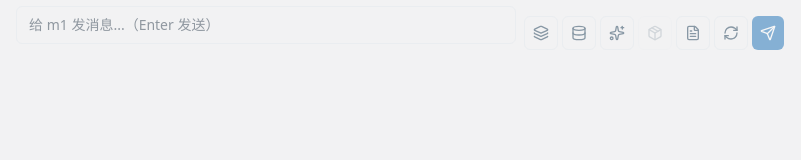
对话子模式：技能过滤 › 工作模式技能选择器仍列出全部技能
This screenshot has width=801, height=160.
Click the button titled "技能 - 选择技能注入系统提示词": (617,33) left=600, top=16, right=634, bottom=50
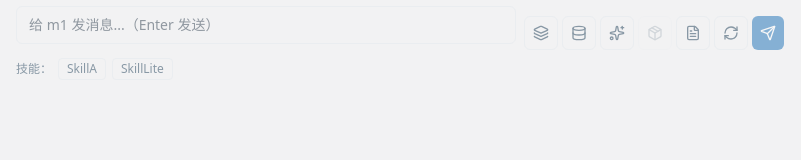
Expected: the button "SkillA" is shown, left=58, top=58, right=106, bottom=80
Expected: the button "SkillLite" is shown, left=112, top=58, right=173, bottom=80
